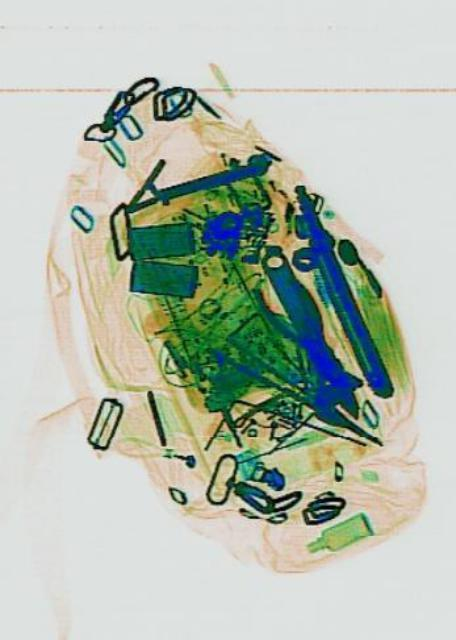Pliers: (215, 330, 384, 452), (248, 255, 349, 400)
Wrench: (248, 234, 363, 442)
